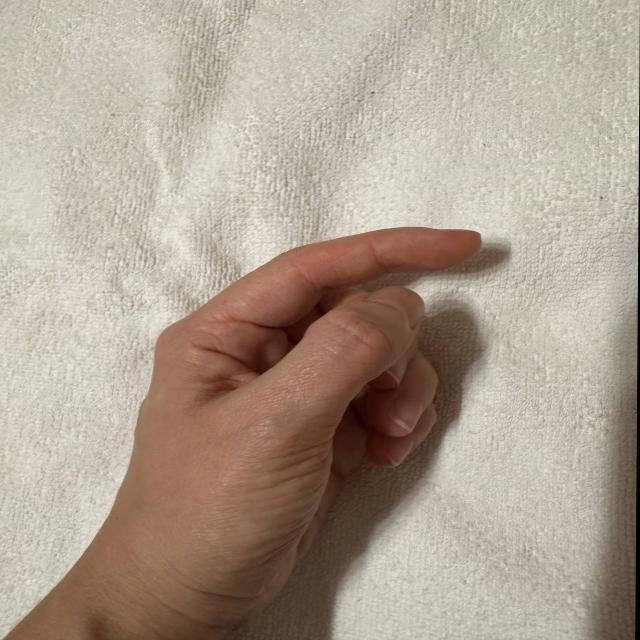kh: (73, 174, 519, 562)
